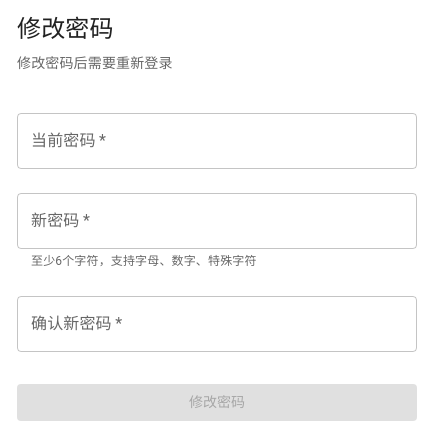
Test: ChangePasswordForm › enables submit when all fields are filled
This screenshot has width=435, height=441.
Type "OldPass123!" into the password field labelled "当前密码 *" at (217, 141), box x1=17 y1=113 x2=417 y2=169
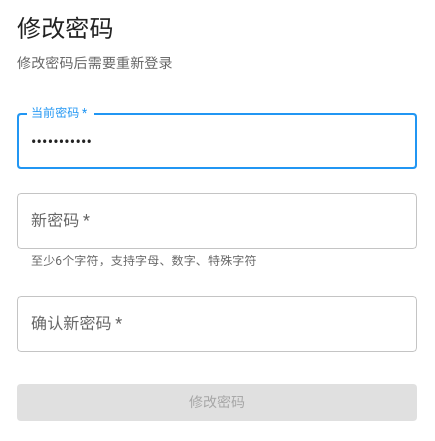
Type "NewPass123!" into the password field labelled "新密码 *" at (217, 221), box x1=17 y1=193 x2=417 y2=249
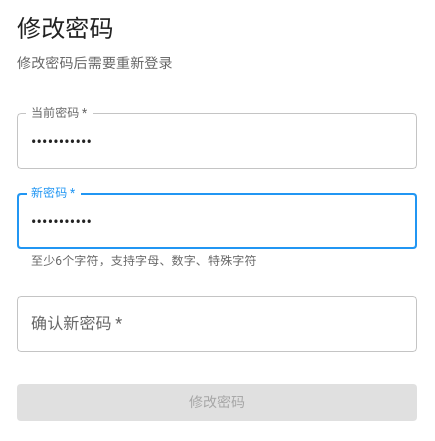
Type "NewPass123!" into the password field labelled "确认新密码 *" at (217, 324), box x1=17 y1=296 x2=417 y2=352
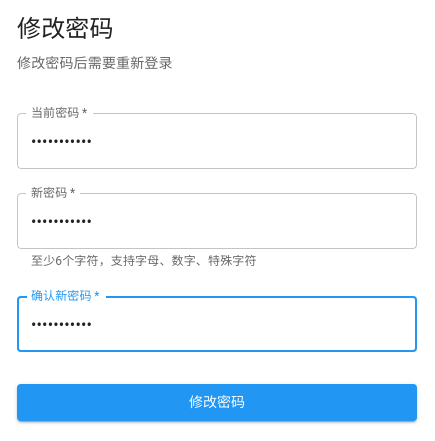
Expected: the button "修改密码" is enabled, x1=17 y1=384 x2=417 y2=421
